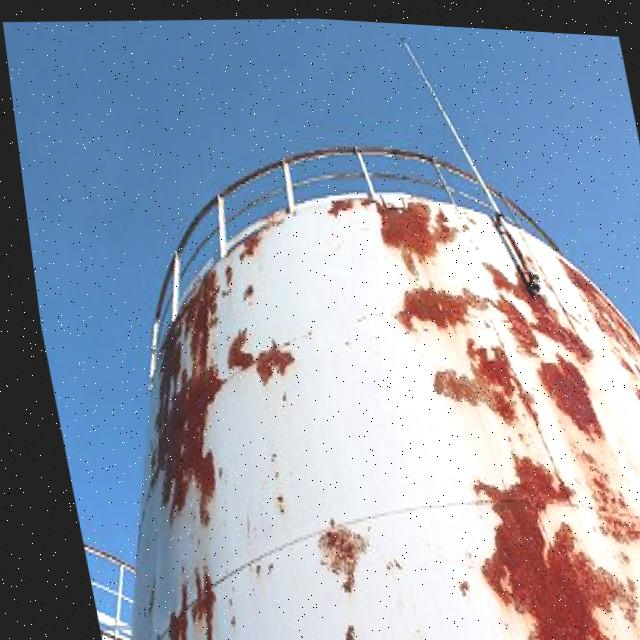corrosion: (322, 194, 620, 640), (138, 266, 215, 523), (553, 250, 640, 411), (546, 411, 626, 533), (214, 325, 284, 383), (152, 565, 200, 640), (304, 517, 353, 589), (222, 208, 279, 257)
